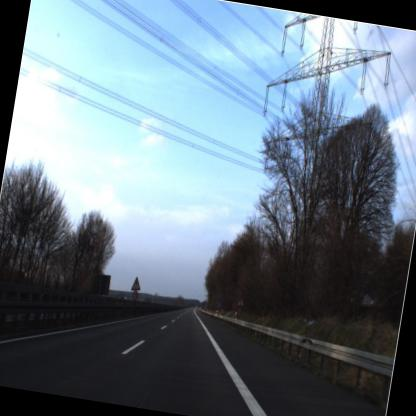danger: (233, 291, 247, 309), (129, 276, 142, 292)
prohibitory: (234, 304, 244, 321), (128, 288, 140, 301)
